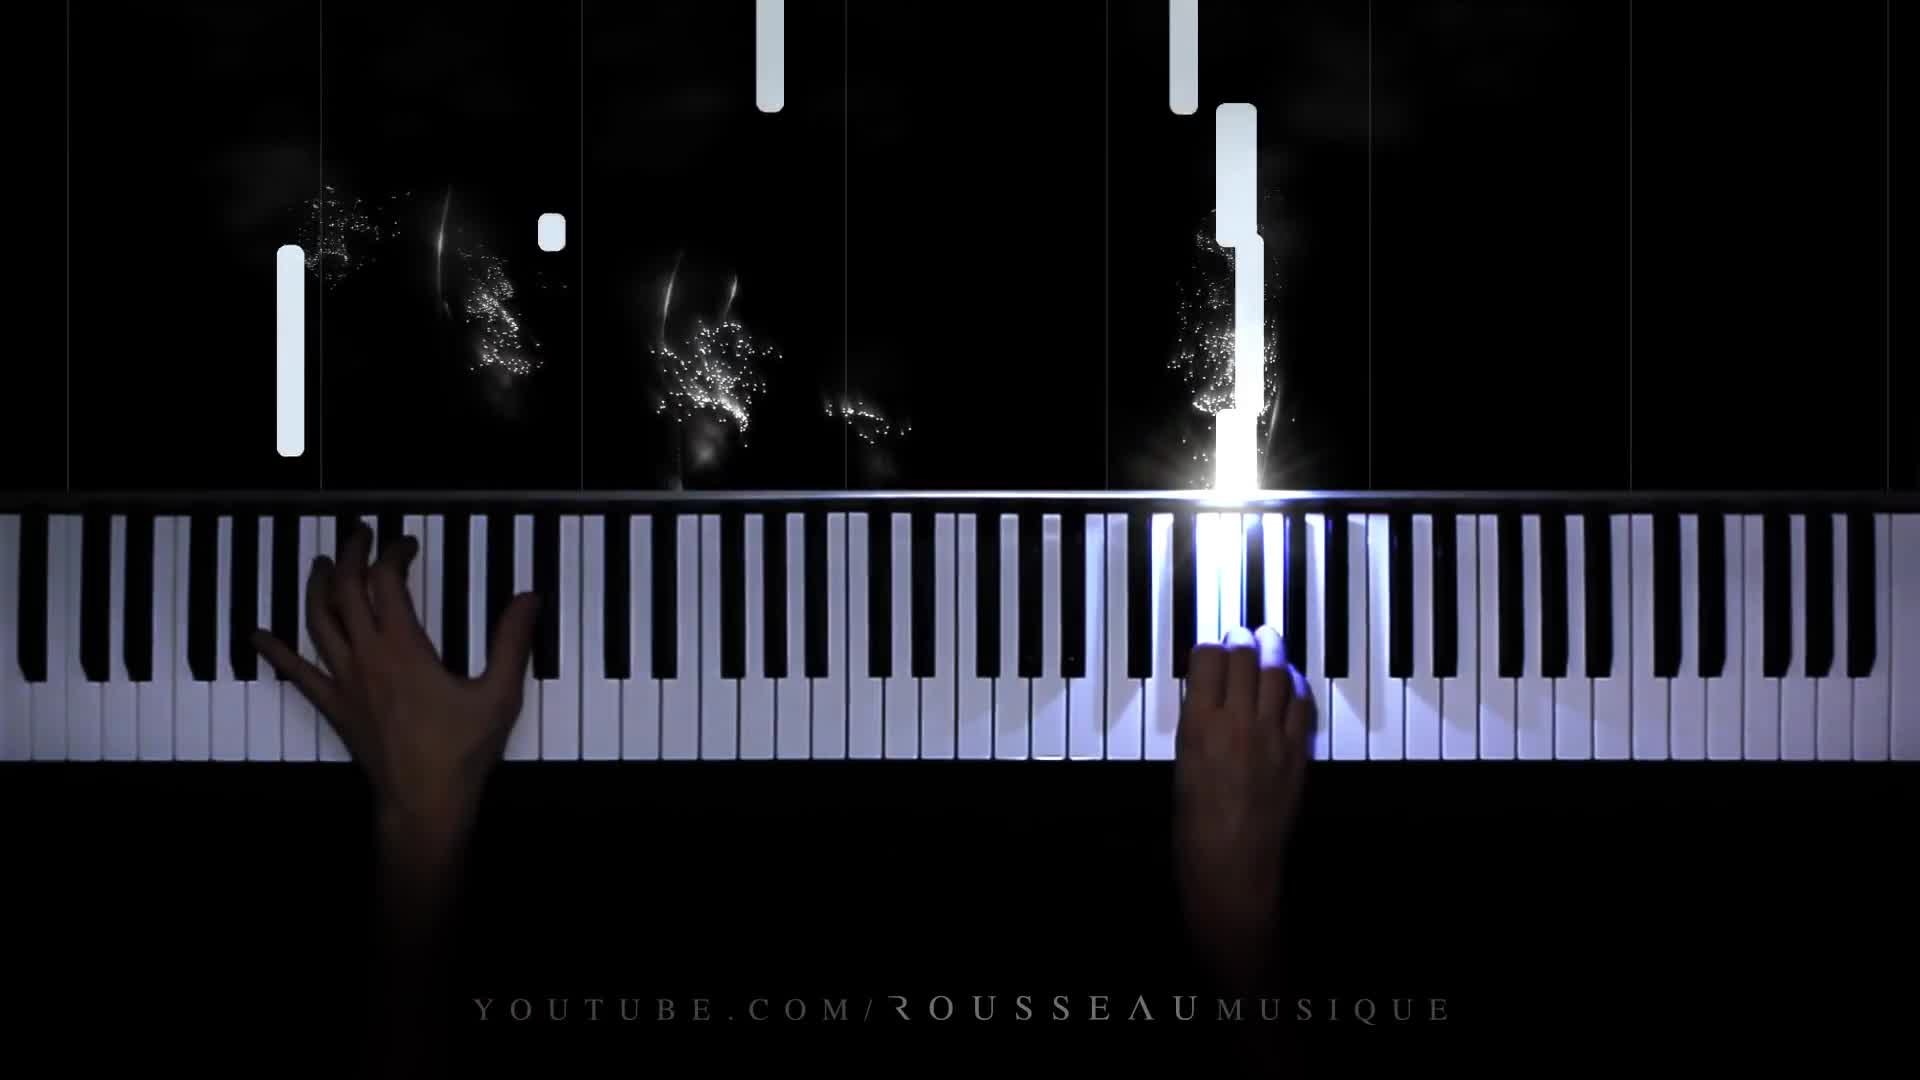left: (244, 514, 545, 785)
right: (1164, 621, 1321, 870)
